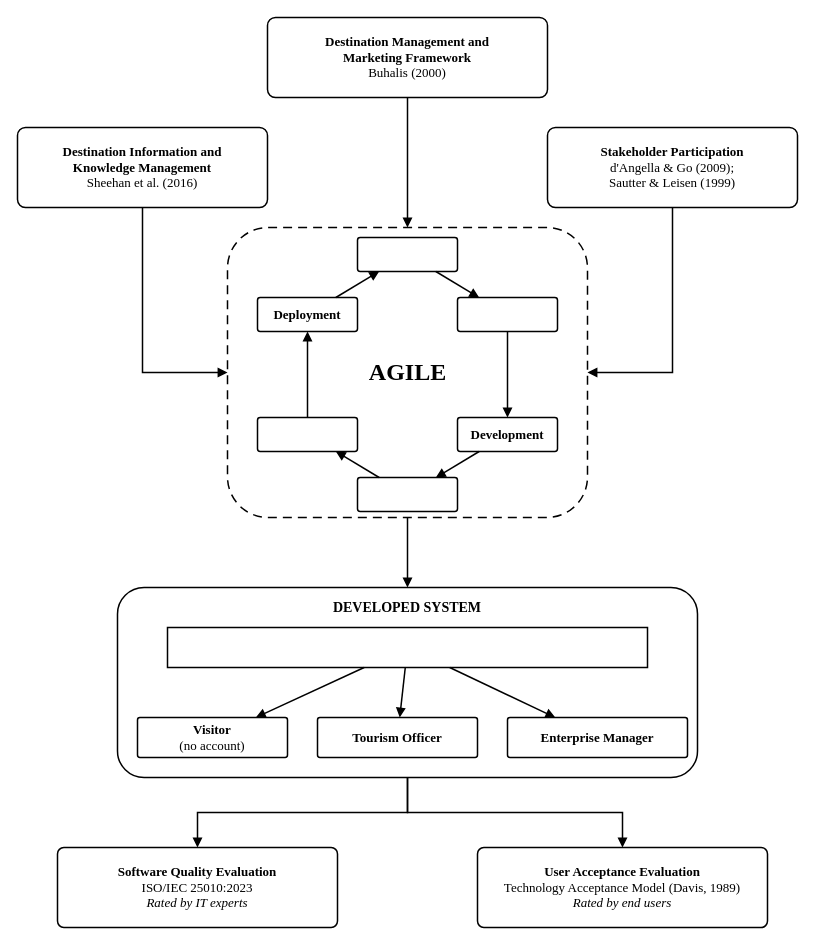
This 816x946 diagram has some shape labels left out. The shapes that lost their labels are listed below. From the top down, each one's centre as x and y in pixels, then its label:
At point (407, 254): "Planning".
At point (507, 314): "Design".
At point (307, 434): "Review".
At point (407, 494): "Testing".
At point (407, 647): "Zamboanguita Tourism Information Management System (ZTIMS)".
